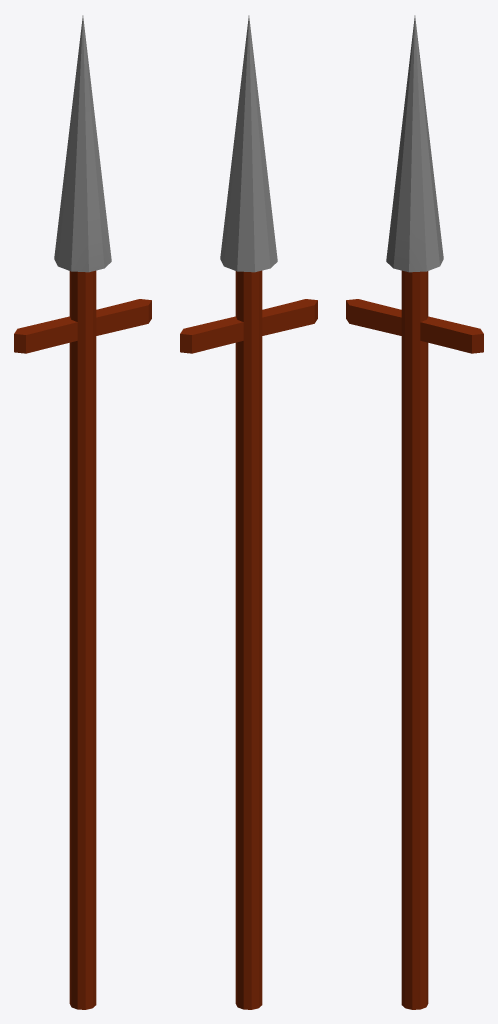
File: spearEXP.fbx
3 renders of one model, left to right at view 1: azimuth 30°, elevation 25°; view 2: azimuth 210°, elevation 25°; view 3: azimuth 330°, elevation 25°, orthographic.
Parts seen in each view (by area): view 1: pCylinder2; view 2: pCylinder2; view 3: pCylinder2.
Boxes of the visible parts, x1=… form: pCylinder2: x1=14, y1=15, x2=151, y2=1009; pCylinder2: x1=180, y1=15, x2=317, y2=1009; pCylinder2: x1=346, y1=15, x2=483, y2=1009.
Bounding box in the file's own units: 47.01 × 323 × 16.29.
